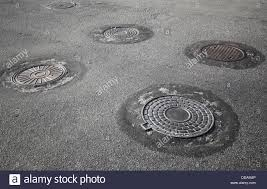Manhole-Closed: (131, 79, 224, 149), (10, 58, 72, 88), (194, 39, 251, 65), (99, 25, 145, 42), (45, 2, 74, 9)
